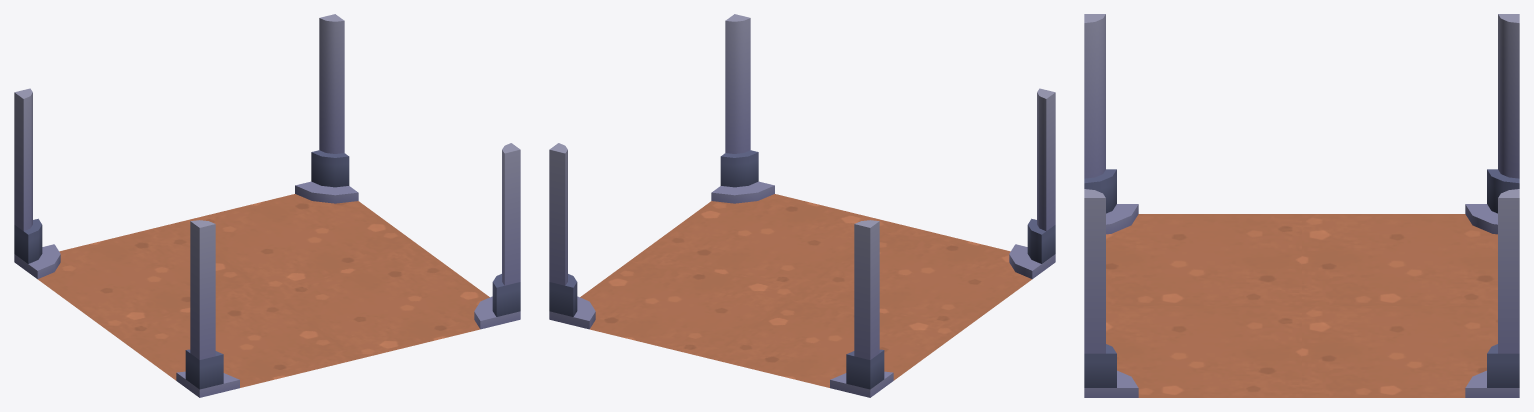
Rendered from corridor_wide_intersection.glb.
3 renders of one model, left to right at view 1: azimuth 30°, elevation 25°; view 2: azimuth 150°, elevation 25°; view 3: azimuth 270°, elevation 25°, orthographic. The views are drawn at different scales.
Visible parts, largest first — view 1: corridor-wide-intersection; view 2: corridor-wide-intersection; view 3: corridor-wide-intersection.
Part boxes in pixels (x1=…): corridor-wide-intersection: x1=14, y1=14, x2=520, y2=397; corridor-wide-intersection: x1=549, y1=14, x2=1055, y2=397; corridor-wide-intersection: x1=1084, y1=14, x2=1519, y2=397.
Bounding box in the file's own units: 8 × 4.05 × 8.
1 material, 1 textured.
